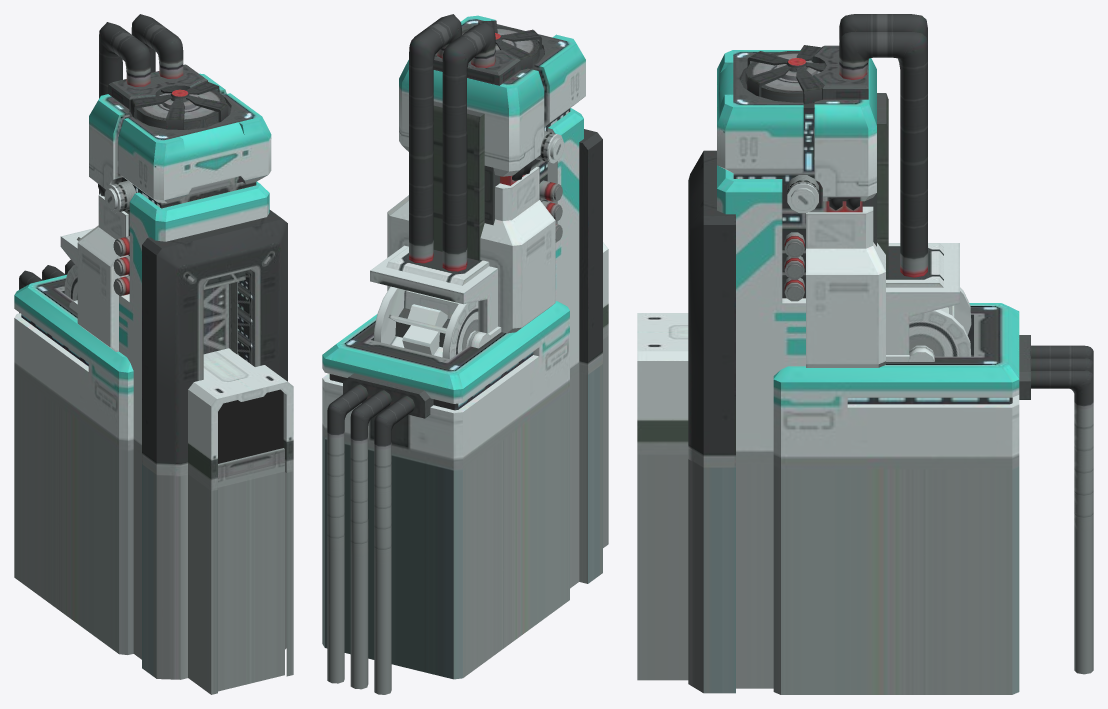
3 views of the same model, side by side, from view 1: azimuth 30°, elevation 25°; view 2: azimuth 150°, elevation 25°; view 3: azimuth 270°, elevation 25° (orthographic). The views are drawn at different scales.
Visible parts, largest first — view 1: water-pump; view 2: water-pump; view 3: water-pump.
Part boxes in pixels (bbox=[...]): water-pump: bbox=[14, 14, 293, 694]; water-pump: bbox=[322, 14, 608, 694]; water-pump: bbox=[637, 14, 1093, 694].
Bounding box in the file's own units: 2.42 × 9.59 × 6.25.
Materials: 2 (1 with a texture image).
